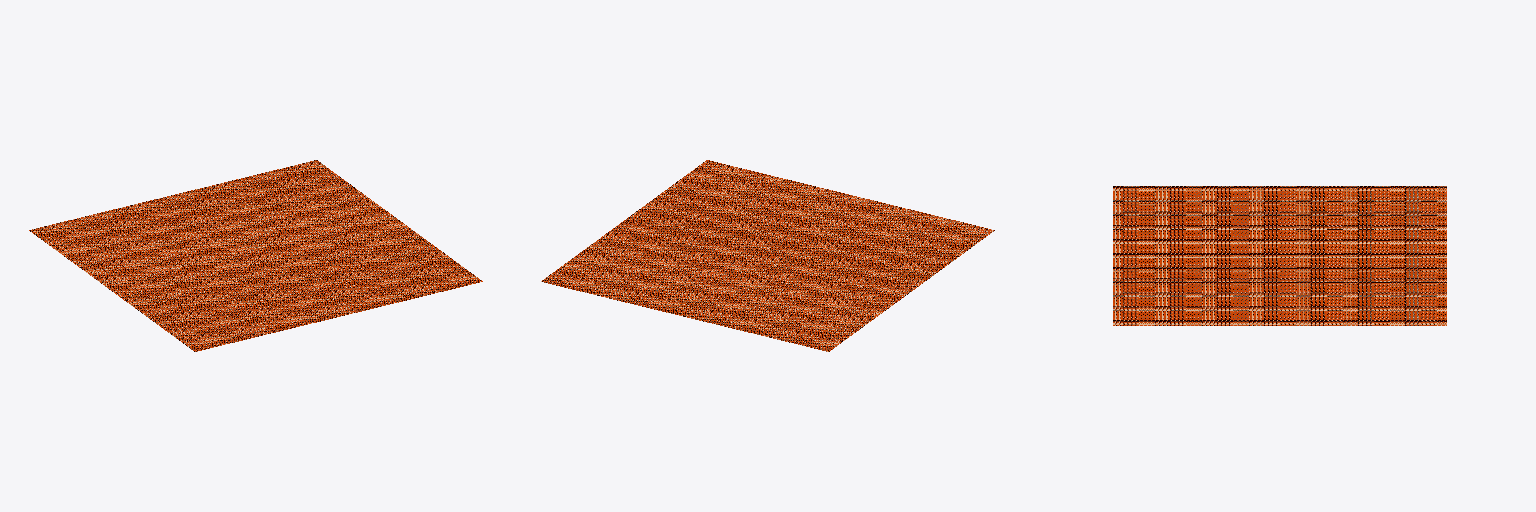
3 renders of one model, left to right at view 1: azimuth 30°, elevation 25°; view 2: azimuth 150°, elevation 25°; view 3: azimuth 270°, elevation 25°, orthographic.
Visible parts, largest first — view 1: Plane.001_Plane.003; view 2: Plane.001_Plane.003; view 3: Plane.001_Plane.003.
Part boxes in pixels (x1,y1,x2,y2): Plane.001_Plane.003: (29,160,482,351); Plane.001_Plane.003: (541,160,994,351); Plane.001_Plane.003: (1113,186,1446,325).
Size of the model in its own units: 229 by 0 by 229.
Materials: 1 (1 with a texture image).